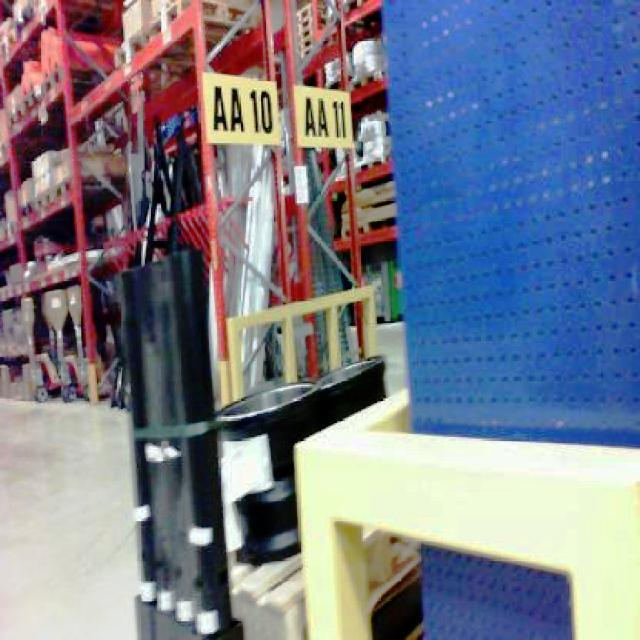ground: (0, 388, 145, 638)
pallet: (288, 0, 398, 342), (228, 532, 423, 638)
